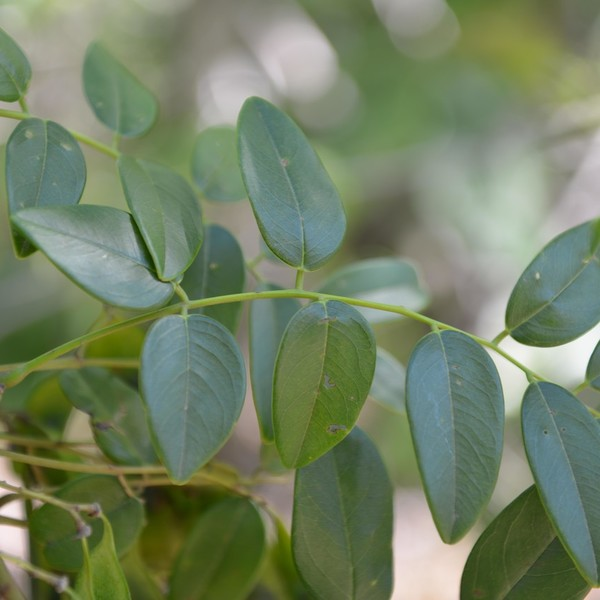obstacle: (27, 70, 584, 580)
